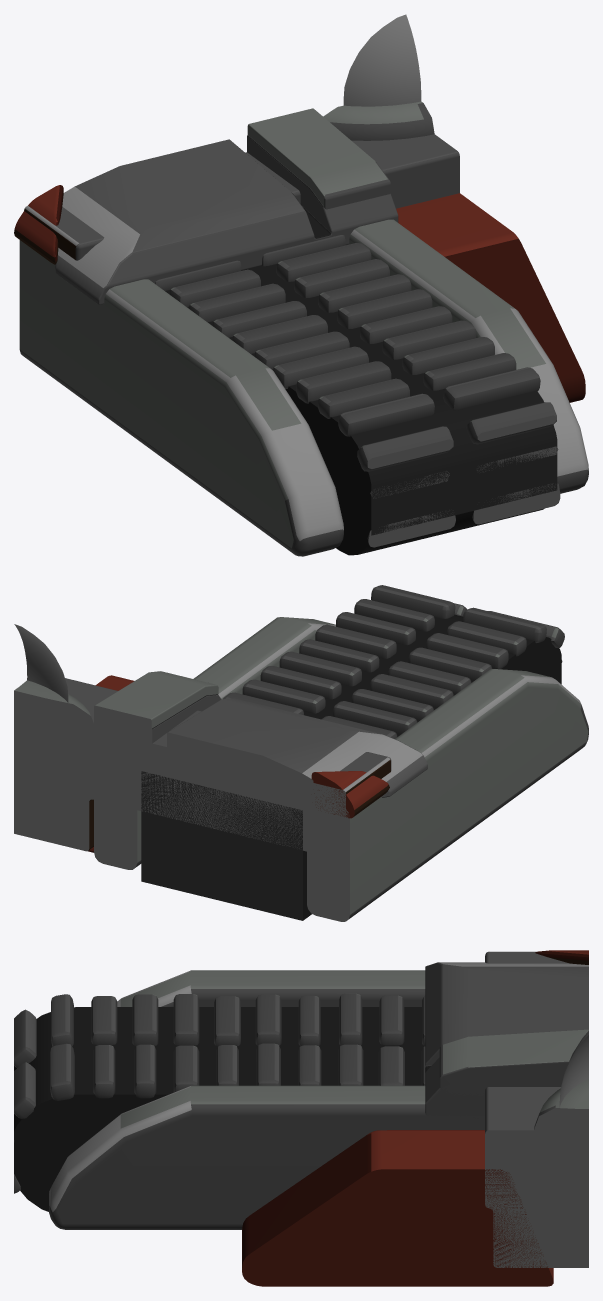
The model's file is track_carrier_bl_279.glb.
3 views of the same model, one above another, from view 1: azimuth 30°, elevation 25°; view 2: azimuth 150°, elevation 25°; view 3: azimuth 270°, elevation 25° (orthographic). The views are drawn at different scales.
Parts seen in each view (by area): view 1: track_carrier_bl_279; view 2: track_carrier_bl_279; view 3: track_carrier_bl_279.
Boxes of the visible parts, bbox=[...] form: track_carrier_bl_279: bbox=[14, 14, 588, 556]; track_carrier_bl_279: bbox=[14, 585, 588, 921]; track_carrier_bl_279: bbox=[14, 950, 588, 1286].
Bounding box in the file's own units: 21.3 × 13.53 × 28.
